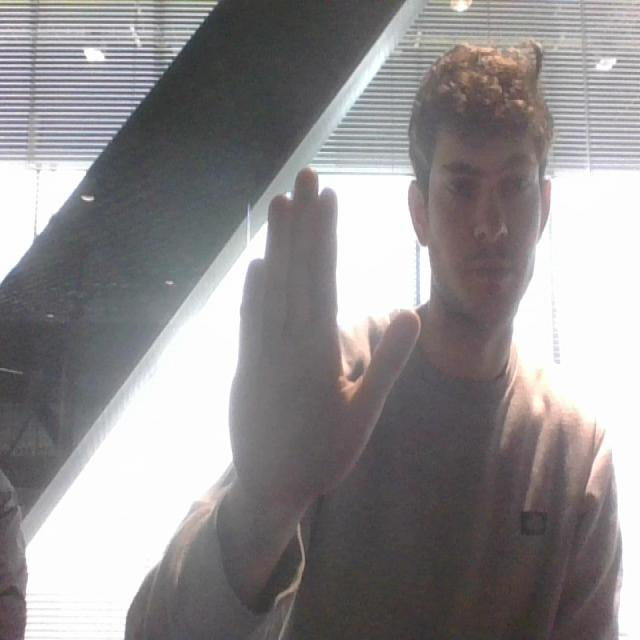backward: (222, 155, 425, 520)
